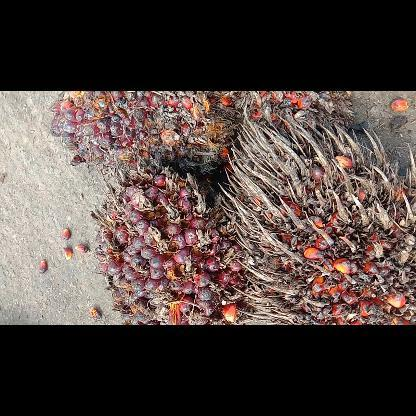TBS masak: (92, 166, 254, 324), (51, 90, 235, 180)
Terlalu masak: (219, 115, 415, 324), (218, 91, 354, 133)
